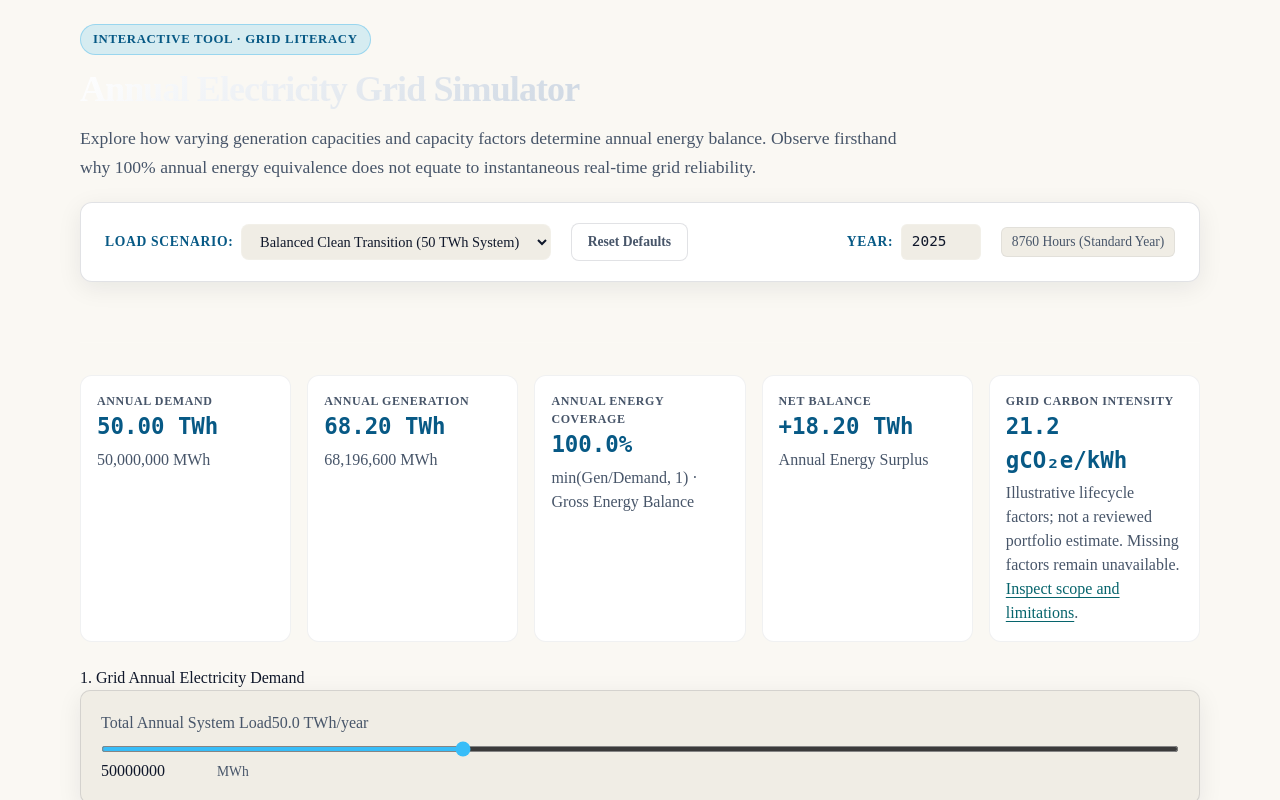
GridSimulator Component (R17) › recalculates metrics when annual demand is updated
The width and height of the screenshot is (1280, 800).
Set the slider named "Annual Demand Slider in MWh" to "80000000" at (675, 749), box [101, 746, 1179, 752]
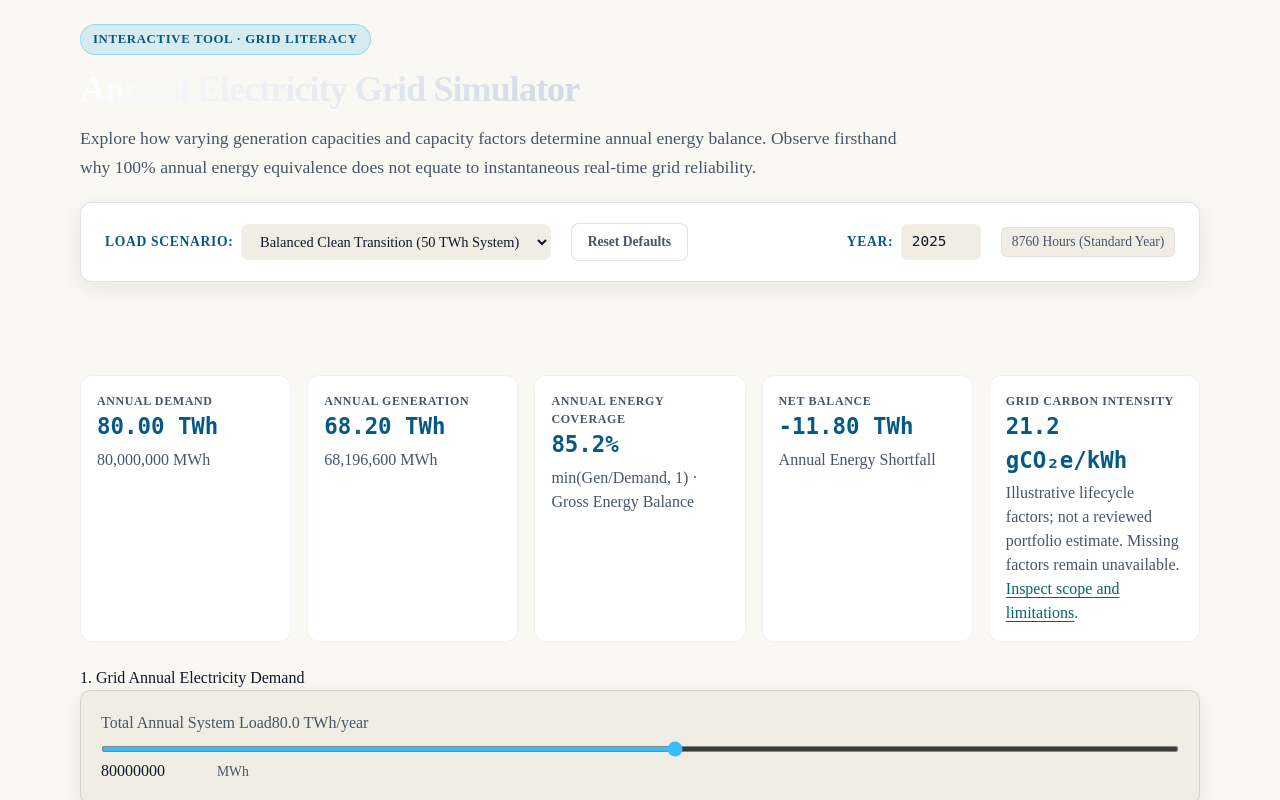
Expected: the text "80.0 TWh/year" is shown, [272, 714, 368, 731]
